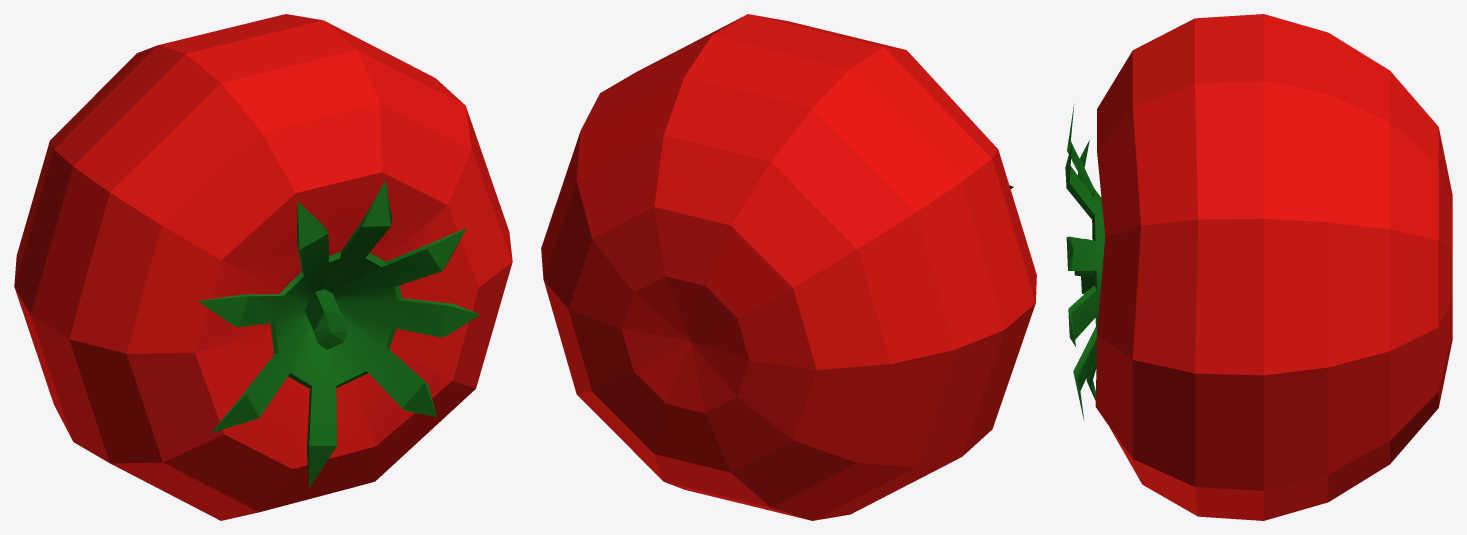
The model's file is Tomato_01.obj.
3 views of the same model, side by side, from view 1: azimuth 30°, elevation 25°; view 2: azimuth 150°, elevation 25°; view 3: azimuth 270°, elevation 25° (orthographic).
Parts seen in each view (by area): view 1: pasted__pSphere33 group; view 2: pasted__pSphere33 group; view 3: pasted__pSphere33 group.
Boxes of the visible parts, x1,y1,x2,y2 form: pasted__pSphere33 group: (14,14,512,520); pasted__pSphere33 group: (541,14,1036,520); pasted__pSphere33 group: (1065,14,1452,520).
Size of the model in its own units: 49.26 by 46.85 by 37.35.
